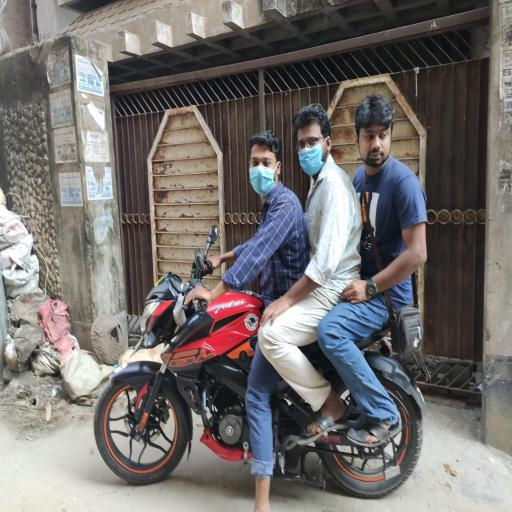no helmet: (232, 118, 285, 231)
triple riding: (92, 78, 430, 512)
